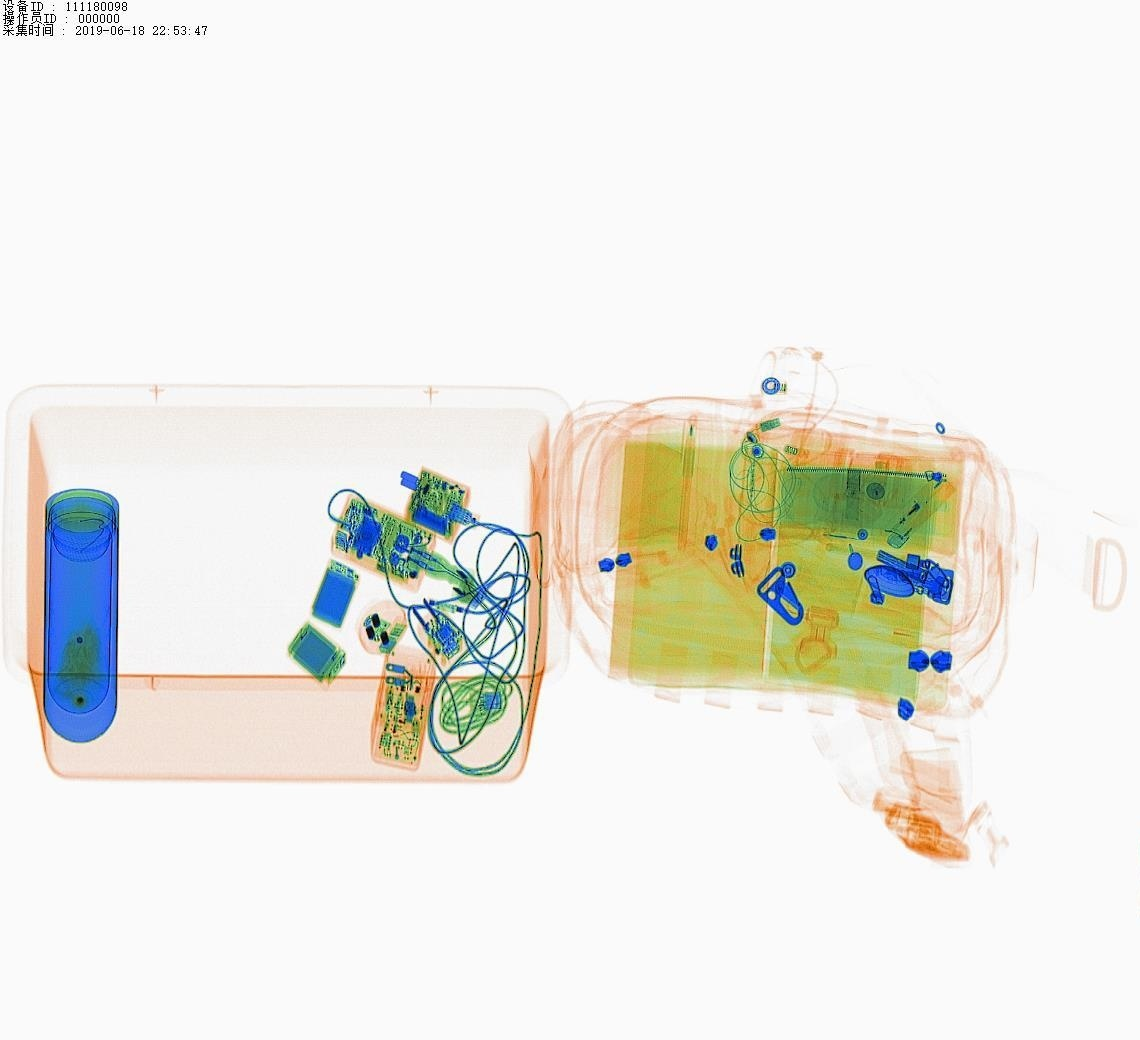NonmetallicFire: (883, 460, 964, 547)
